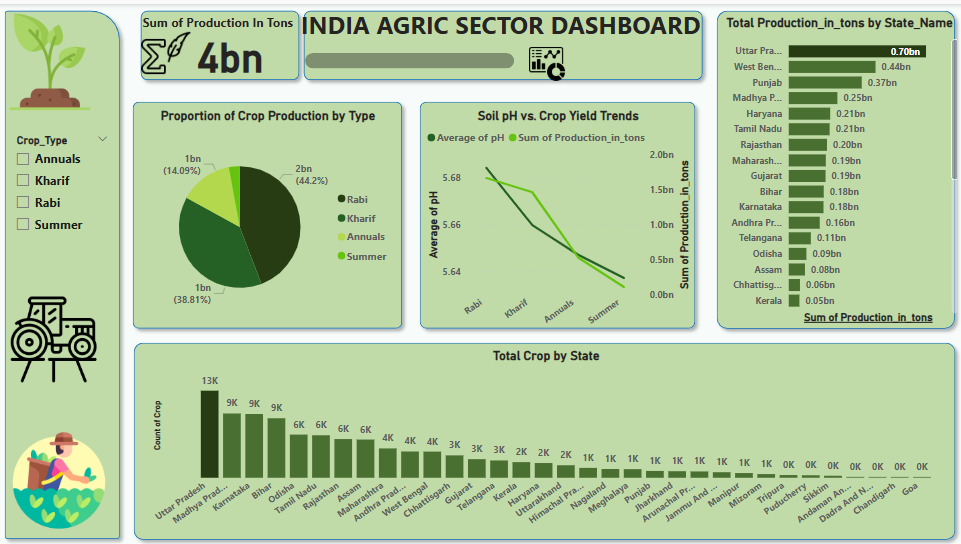

What the dashboard file says about the page in this screenshot:
{"tool":"powerbi","page":{"name":"Page 1","canvas":[1280,720],"ordinal":0},"visuals":[{"type":"shape","box":[171.2,440.5,1109.3,279.5],"z":0},{"type":"shape","box":[0,0,170.7,719.8],"z":1000},{"type":"shape","box":[945.5,0,334.5,440.4],"z":2000},{"type":"shape","box":[551.9,121.1,384,319.3],"z":3000},{"type":"shape","box":[170.7,121.1,375.7,319.3],"z":4000},{"type":"shape","box":[397.8,0,547.8,110.1],"z":5000},{"type":"shape","box":[180.3,0,228.5,110.1],"z":6000},{"type":"columnChart","title":"Total Crop by State","fields":{"Category":["India Agriculture.State_Name"],"Y":["CountNonNull(India Agriculture.Crop)"]},"box":[200.9,456.9,1055.7,246.4],"z":7000},{"type":"clusteredBarChart","title":"Total Production_in_tons by State_Name","fields":{"Category":["India Agriculture.State_Name"],"Y":["Sum(India Agriculture.Production_in_tons)"]},"box":[956.6,15.1,323.4,414.3],"z":8000},{"type":"lineChart","title":"Soil pH vs. Crop Yield Trends","fields":{"Y":["Avg(India Agriculture.pH)"],"Category":["India Agriculture.Crop_Type"],"Y2":["Sum(India Agriculture.Production_in_tons)"]},"box":[564.3,137.6,359.2,308.3],"z":9000},{"type":"pieChart","title":"Proportion of Crop Production by Type","fields":{"Category":["India Agriculture.Crop_Type"],"Y":["Sum(India Agriculture.Production_in_tons)"]},"box":[187.2,137.6,342.7,297.3],"z":10000},{"type":"card","fields":{"Values":["Sum(India Agriculture.Production_in_tons)"]},"box":[242.2,31.7,133.5,66.1],"z":11000},{"type":"textbox","box":[187.2,8.3,221.6,46.8],"z":12000},{"type":"slicer","fields":{"Values":["India Agriculture.Crop_Type"]},"box":[12.4,167.9,145.9,224.3],"z":13000},{"type":"image","box":[0,8.3,137.6,137.6],"z":14000},{"type":"image","box":[12.4,561.5,137.6,141.8],"z":15000},{"type":"image","box":[12.4,382.6,123.9,126.6],"z":16000},{"type":"image","box":[178.9,22,86.7,85.3],"z":17000},{"type":"textbox","box":[397.8,0,547.8,64.7],"z":18000},{"type":"shape","box":[407.4,64.7,278,20.6],"z":19000},{"type":"image","box":[659.3,49.5,140.4,60.6],"z":20000}]}

Visuals, with their boxes in screenshot pixels (x1, y1, x2, y2), scaled from the page's 1280x720 canvas onto the 961x544 screenshot:
shape: BBox(129, 333, 960, 543)
shape: BBox(0, 0, 128, 543)
shape: BBox(710, 0, 960, 333)
shape: BBox(414, 91, 703, 333)
shape: BBox(128, 91, 410, 333)
shape: BBox(299, 0, 710, 83)
shape: BBox(135, 0, 307, 83)
"Total Crop by State" columnChart: BBox(151, 345, 943, 531)
"Total Production_in_tons by State_Name" clusteredBarChart: BBox(718, 11, 960, 324)
"Soil pH vs. Crop Yield Trends" lineChart: BBox(424, 104, 693, 337)
"Proportion of Crop Production by Type" pieChart: BBox(141, 104, 398, 329)
card - Sum(India Agriculture.Production_in_tons): BBox(182, 24, 282, 74)
textbox: BBox(141, 6, 307, 42)
slicer - India Agriculture.Crop_Type: BBox(9, 127, 119, 296)
image: BBox(0, 6, 103, 110)
image: BBox(9, 424, 113, 531)
image: BBox(9, 289, 102, 385)
image: BBox(134, 17, 199, 81)
textbox: BBox(299, 0, 710, 49)
shape: BBox(306, 49, 515, 64)
image: BBox(495, 37, 600, 83)
